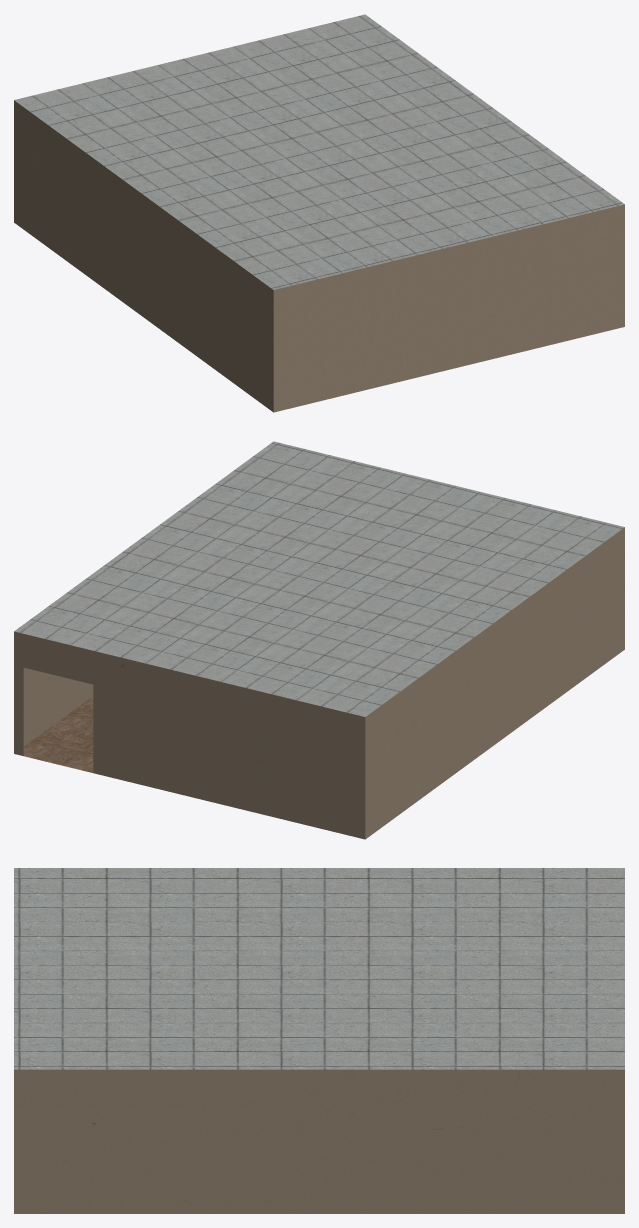
3 renders of one model, top to bottom at view 1: azimuth 30°, elevation 25°; view 2: azimuth 150°, elevation 25°; view 3: azimuth 270°, elevation 25°, orthographic. The views are drawn at different scales.
Parts seen in each view (by area): view 1: Techo, Paredes; view 2: Techo, Paredes, Piso; view 3: Techo, Paredes.
Part boxes in pixels (x1,y1,x2,y2): Techo: (14, 14, 624, 289); Paredes: (14, 100, 624, 412); Techo: (14, 441, 624, 716); Paredes: (14, 527, 624, 839); Piso: (23, 696, 93, 772); Techo: (14, 868, 624, 1069); Paredes: (14, 1069, 624, 1213).
Size of the model in its own units: 12364 by 4118 by 15825.
Materials: 7 (5 with a texture image).
